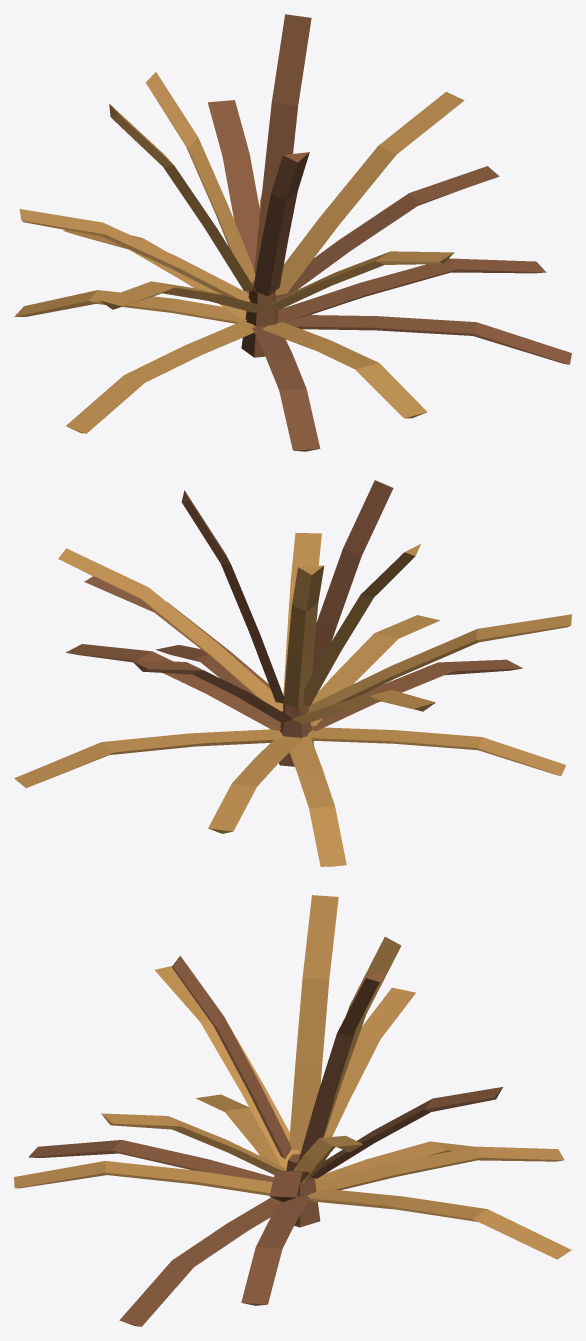
Rendered from dry_frond_mid.glb.
3 views of the same model, one above another, from view 1: azimuth 30°, elevation 25°; view 2: azimuth 150°, elevation 25°; view 3: azimuth 270°, elevation 25° (orthographic). The views are drawn at different scales.
Visible parts, largest first — view 1: dry_frond_mid; view 2: dry_frond_mid; view 3: dry_frond_mid.
Part boxes in pixels (left/top/right/bottom): dry_frond_mid: left=14, top=14, right=571, bottom=451; dry_frond_mid: left=14, top=480, right=571, bottom=866; dry_frond_mid: left=14, top=895, right=571, bottom=1326.
Bounding box in the file's own units: 0.8221 × 0.4647 × 0.8226.
